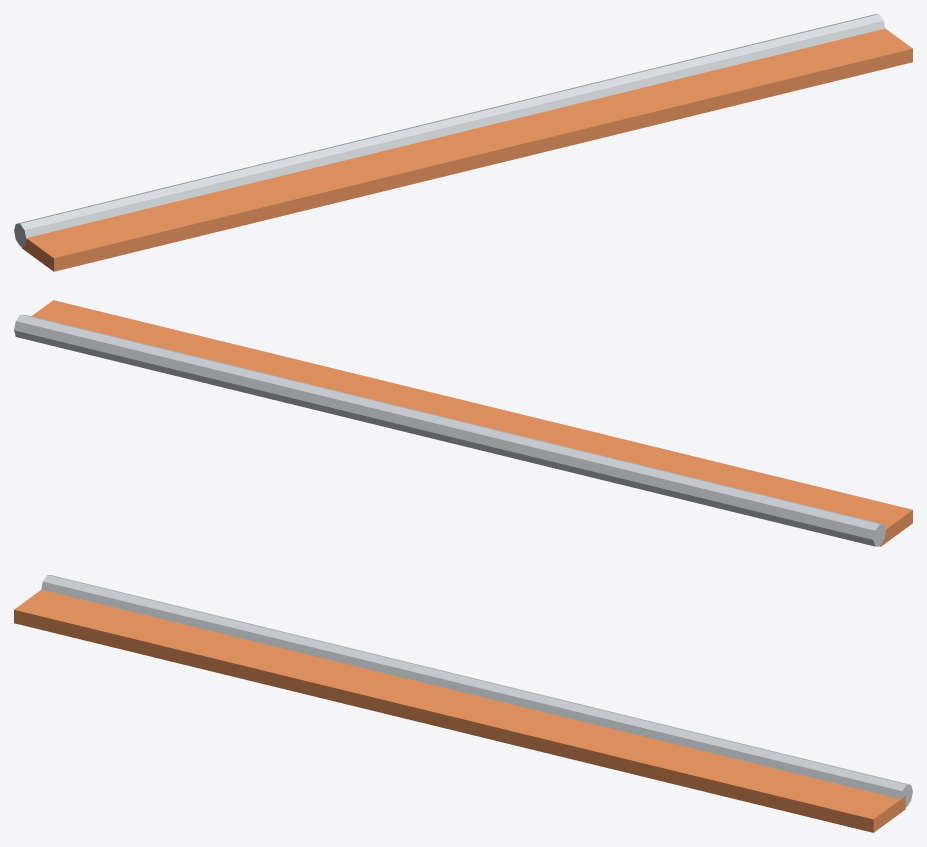
File: skate-park-and-street-sports-coping-edge-piece-028c161c__33527.glb
3 views of the same model, one above another, from view 1: azimuth 30°, elevation 25°; view 2: azimuth 150°, elevation 25°; view 3: azimuth 330°, elevation 25° (orthographic).
Visible parts, largest first — view 1: coping-edge-piece-sunset, coping-edge-piece-steel; view 2: coping-edge-piece-steel, coping-edge-piece-sunset; view 3: coping-edge-piece-sunset, coping-edge-piece-steel.
Part boxes in pixels (x1,y1,x2,y2): coping-edge-piece-sunset: (21, 28, 912, 271); coping-edge-piece-steel: (14, 14, 884, 246); coping-edge-piece-steel: (14, 314, 885, 546); coping-edge-piece-sunset: (31, 300, 912, 546); coping-edge-piece-sunset: (14, 589, 905, 832); coping-edge-piece-steel: (41, 575, 912, 807).
Bounding box in the file's own units: 4 × 0.1051 × 0.3199.
